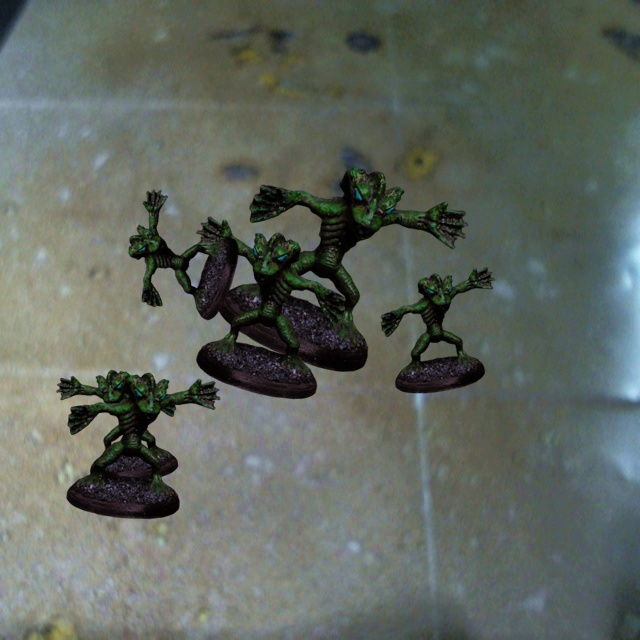pieza_juego: (217, 167, 467, 371), (196, 216, 345, 398), (66, 373, 220, 518), (128, 189, 238, 319), (381, 267, 494, 393), (56, 370, 177, 483)
